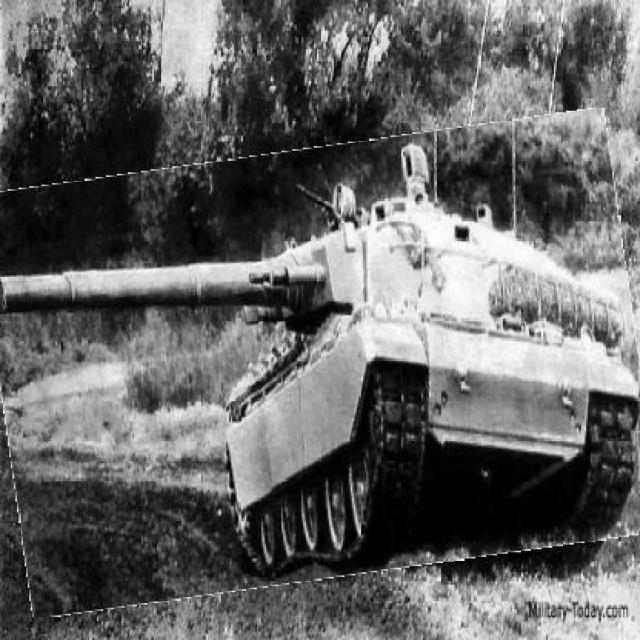Tank: (1, 128, 639, 599)
